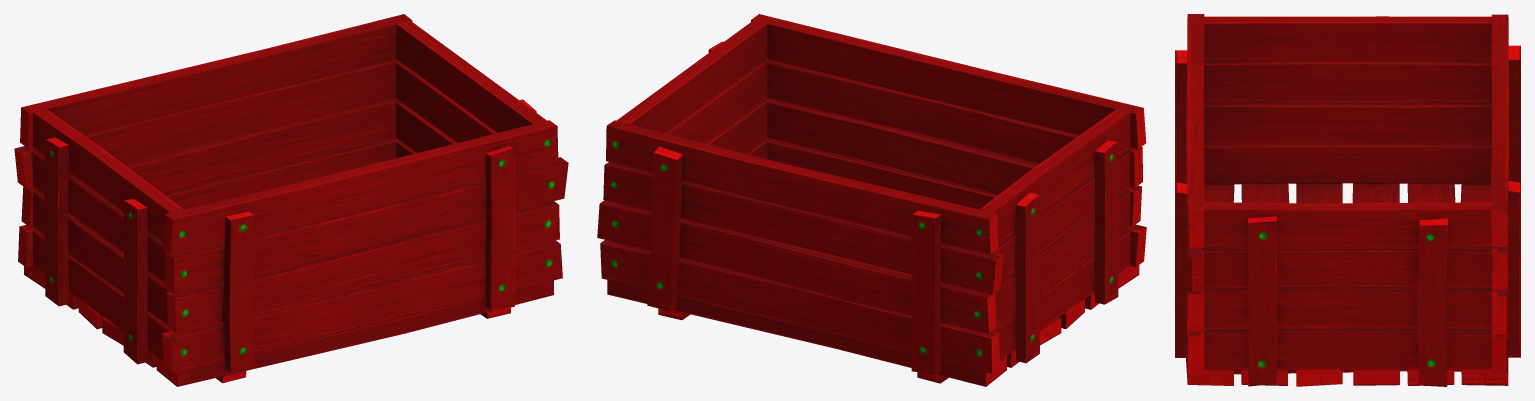
File: CrateOpen02.fbx
3 renders of one model, left to right at view 1: azimuth 30°, elevation 25°; view 2: azimuth 150°, elevation 25°; view 3: azimuth 270°, elevation 25°, orthographic. The views are drawn at different scales.
Visible parts, largest first — view 1: CrateOpen02_LOD0; view 2: CrateOpen02_LOD0; view 3: CrateOpen02_LOD0.
Boxes of the visible parts, x1,y1,x2,y2 form: CrateOpen02_LOD0: (14,14,568,386); CrateOpen02_LOD0: (597,14,1146,386); CrateOpen02_LOD0: (1175,14,1520,386).
Size of what is drawn, in the model's own units: 0.7355 by 0.3141 by 0.5247.
